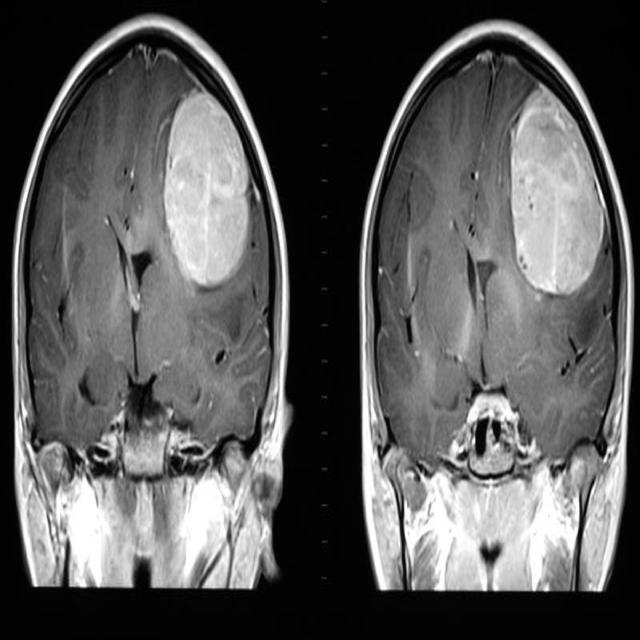Tumor: (510, 80, 604, 290), (164, 85, 250, 294)
